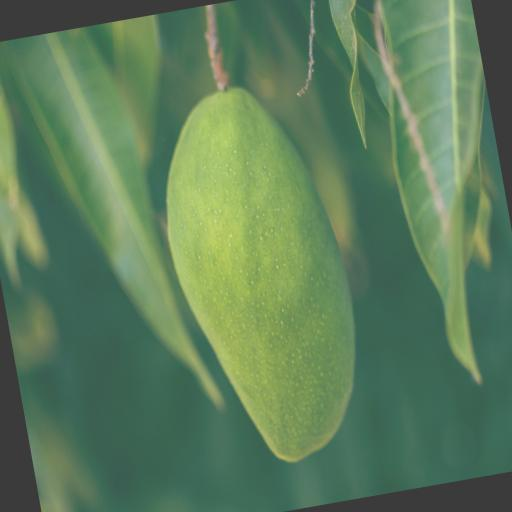Mango-Detection: (41, 10, 454, 512)
